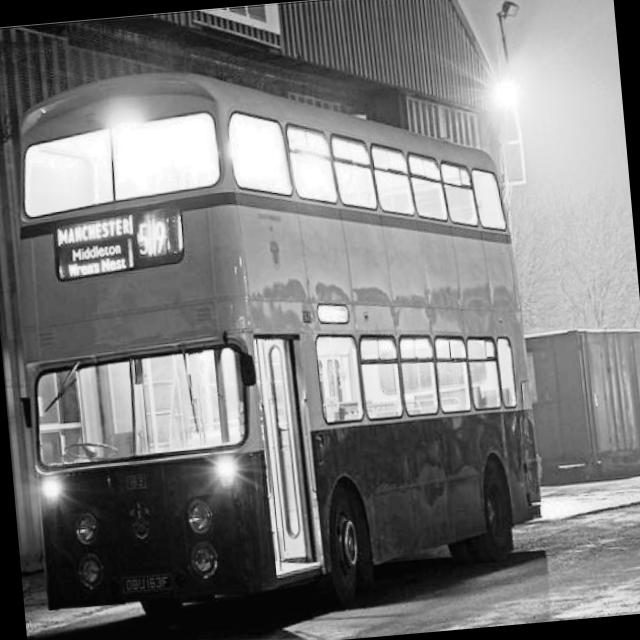Bus: (0, 41, 565, 640)
